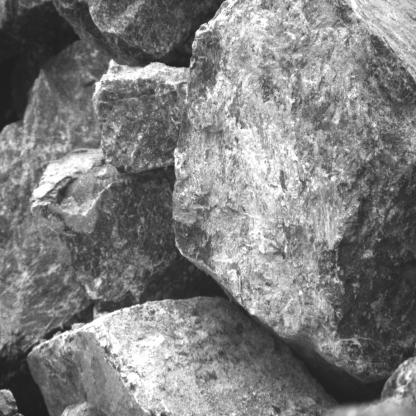stone: (172, 0, 416, 384), (26, 296, 342, 416), (30, 149, 203, 311), (52, 0, 222, 66), (92, 58, 188, 174)
